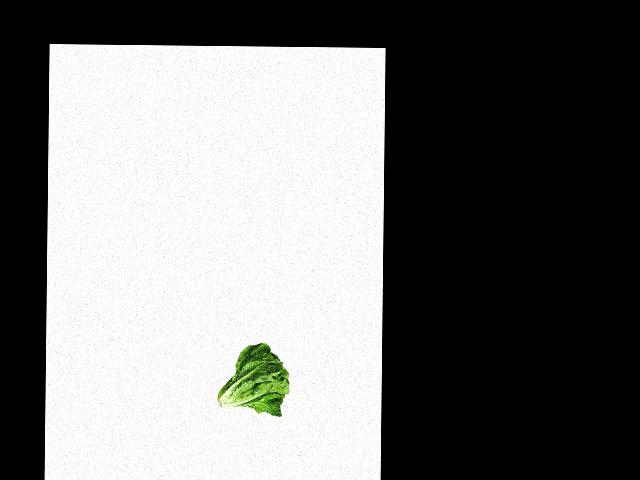lettuce: (213, 341, 290, 415)
